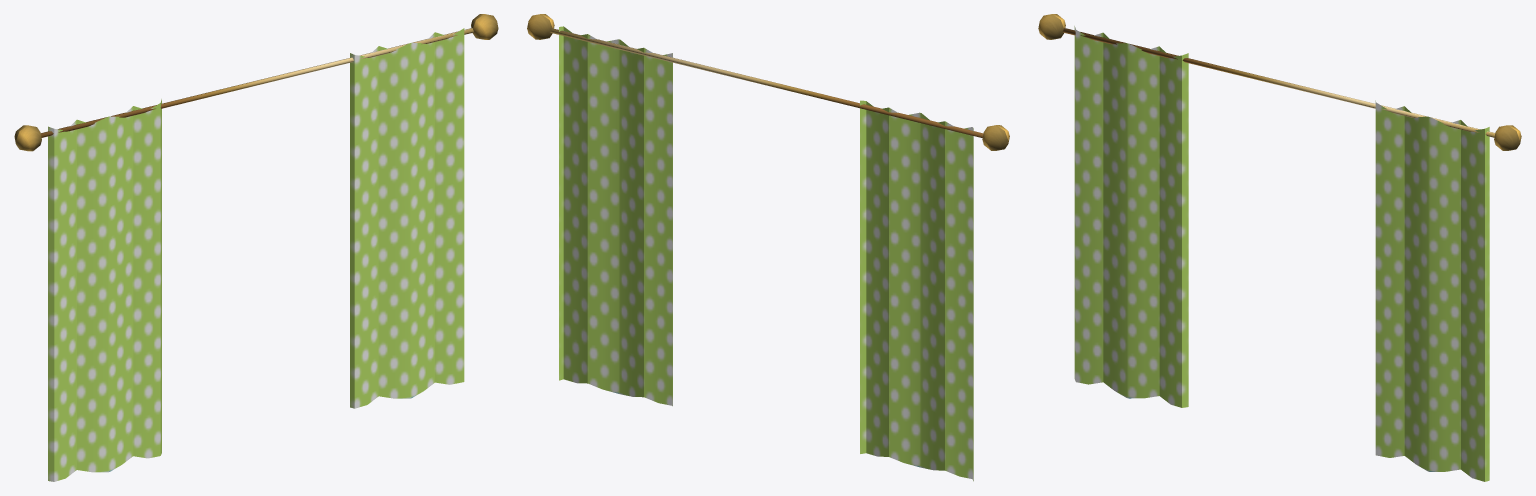
The model's file is Straight_Curtains_01.FBX.
3 renders of one model, left to right at view 1: azimuth 30°, elevation 25°; view 2: azimuth 150°, elevation 25°; view 3: azimuth 330°, elevation 25°, orthographic.
Visible parts, largest first — view 1: Straight_Curtain; view 2: Straight_Curtain; view 3: Straight_Curtain.
Boxes of the visible parts, bbox=[...] form: Straight_Curtain: bbox=[14, 14, 498, 481]; Straight_Curtain: bbox=[527, 14, 1009, 481]; Straight_Curtain: bbox=[1038, 14, 1521, 481].
Bounding box in the file's own units: 582 × 421 × 29.96.
